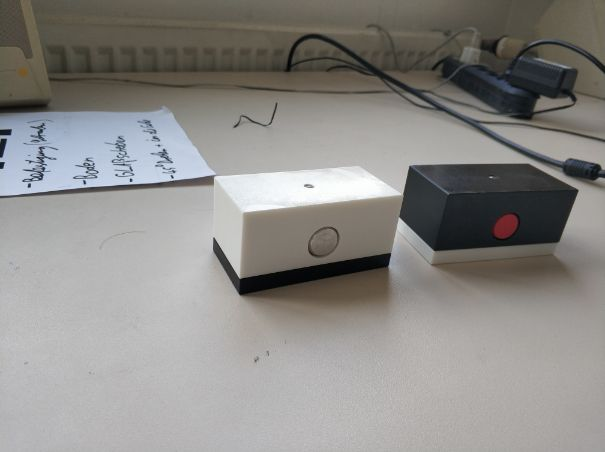black+white+silver: (208, 163, 406, 298)
white+black+red: (395, 162, 579, 268)
